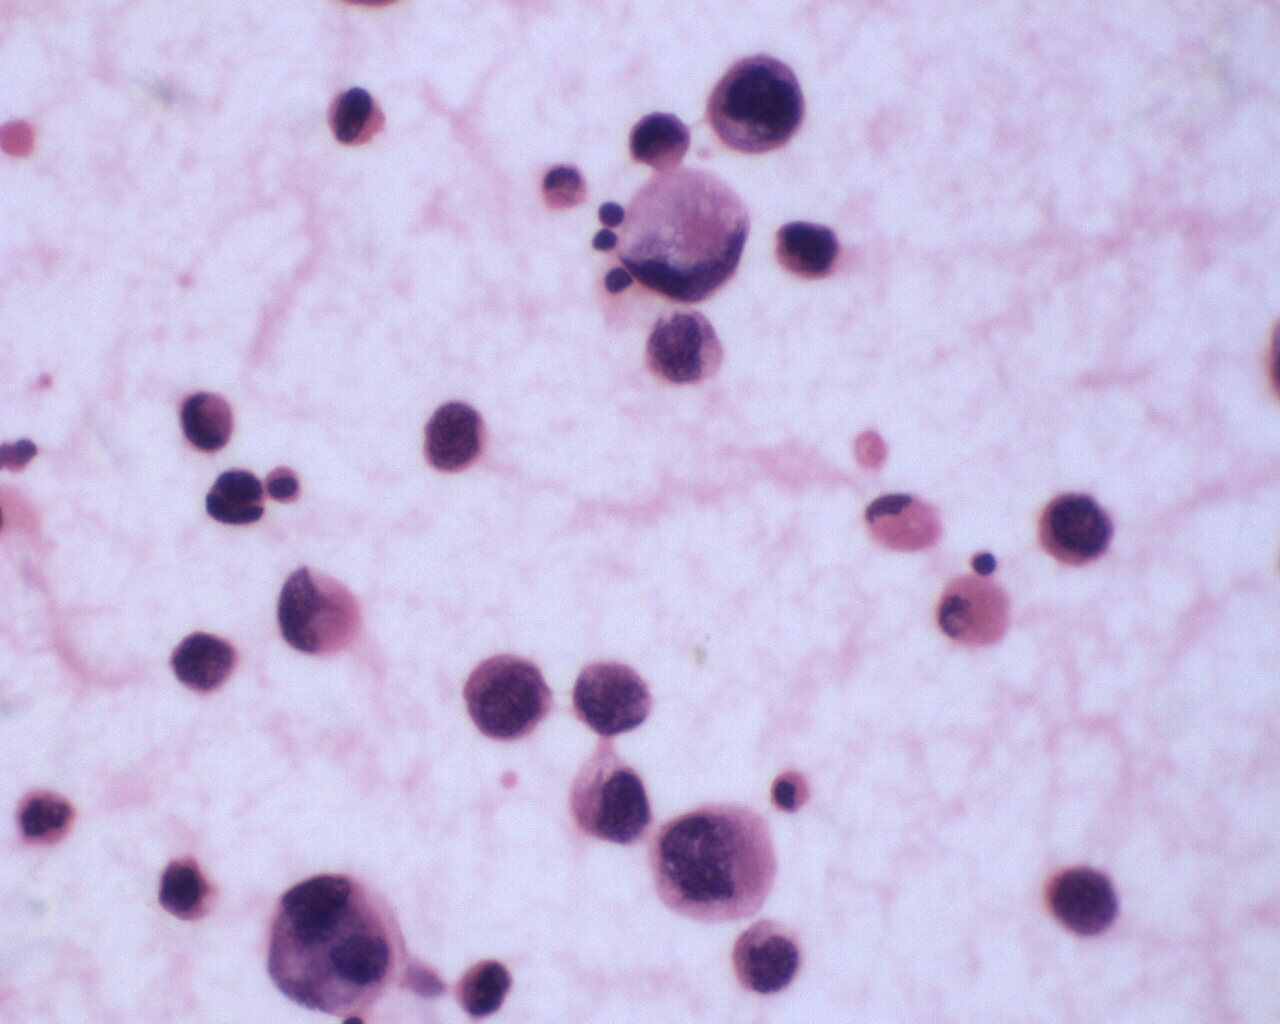ab: (645, 798, 787, 927), (699, 51, 807, 161), (456, 650, 554, 748), (561, 757, 655, 848), (1027, 486, 1119, 574), (730, 914, 804, 999), (164, 621, 238, 695), (419, 397, 486, 476), (322, 84, 389, 149)
histo: (620, 167, 755, 306)
